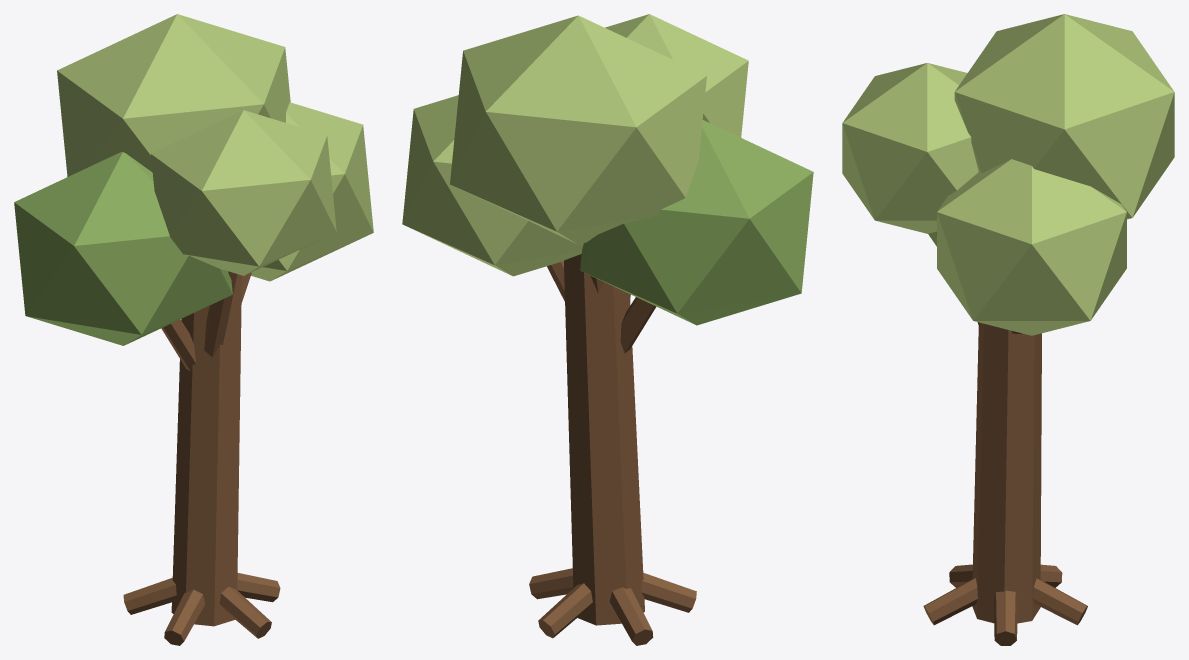
File: CC_TreeTall.fbx
3 renders of one model, left to right at view 1: azimuth 30°, elevation 25°; view 2: azimuth 150°, elevation 25°; view 3: azimuth 270°, elevation 25°, orthographic. The views are drawn at different scales.
Visible parts, largest first — view 1: Canopy.004, Canopy.006, Canopy.007, Trunk.001, Canopy.005, Root.009, Root.008, Root.007, Branch.010, Root.005, Branch.007; view 2: Canopy.006, Canopy.004, Trunk.001, Canopy.005, Canopy.007, Root.006, Root.007, Root.008, Branch.007, Root.005; view 3: Canopy.006, Canopy.005, Trunk.001, Canopy.007, Root.006, Root.009, Root.005.
Part boxes in pixels (bbox=[...]): Canopy.004: bbox=[14, 152, 232, 345]; Canopy.006: bbox=[57, 14, 290, 176]; Canopy.007: bbox=[151, 110, 336, 275]; Trunk.001: bbox=[171, 274, 241, 626]; Canopy.005: bbox=[251, 102, 373, 281]; Root.009: bbox=[219, 586, 271, 638]; Root.008: bbox=[164, 589, 204, 645]; Root.007: bbox=[123, 578, 176, 614]; Branch.010: bbox=[204, 271, 237, 357]; Root.005: bbox=[237, 573, 280, 602]; Branch.007: bbox=[161, 319, 196, 371]; Canopy.006: bbox=[450, 15, 706, 244]; Canopy.004: bbox=[580, 120, 813, 325]; Trunk.001: bbox=[564, 254, 644, 625]; Canopy.005: bbox=[402, 95, 583, 276]; Canopy.007: bbox=[605, 14, 748, 137]; Root.006: bbox=[538, 583, 592, 638]; Root.007: bbox=[609, 587, 653, 645]; Root.008: bbox=[641, 573, 696, 612]; Branch.007: bbox=[620, 297, 656, 353]; Root.005: bbox=[529, 568, 573, 599]; Canopy.006: bbox=[954, 14, 1174, 219]; Canopy.005: bbox=[937, 159, 1126, 335]; Trunk.001: bbox=[972, 323, 1041, 623]; Canopy.007: bbox=[842, 63, 978, 233]; Root.006: bbox=[1033, 578, 1087, 625]; Root.009: bbox=[923, 578, 978, 625]; Root.005: bbox=[993, 590, 1017, 645].
Size of the model in its own units: 3.19 by 5.06 by 2.54.
